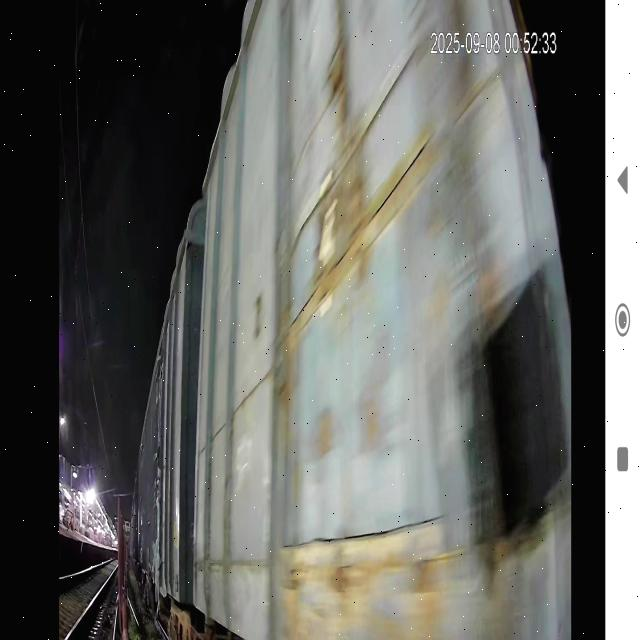coach: (210, 2, 568, 640)
